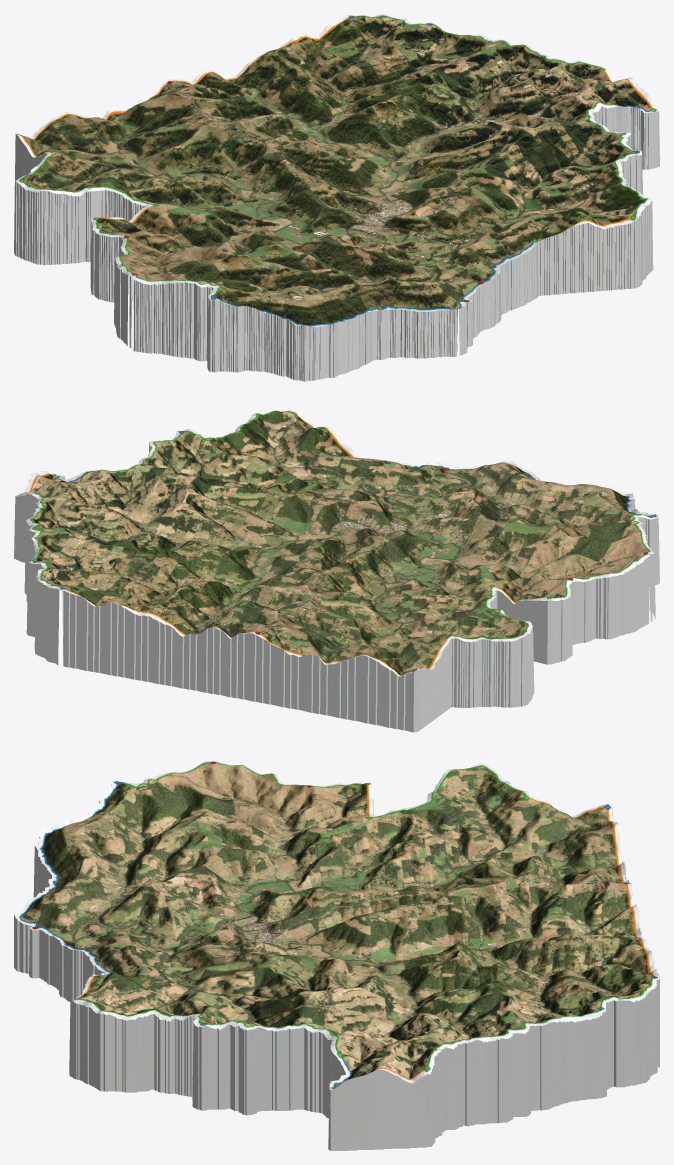
3 views of the same model, one above another, from view 1: azimuth 30°, elevation 25°; view 2: azimuth 150°, elevation 25°; view 3: azimuth 270°, elevation 25° (orthographic). The views are drawn at different scales.
Bounding box in the file's own units: 1 × 0.1314 × 0.8746.
1 material, 1 textured.
